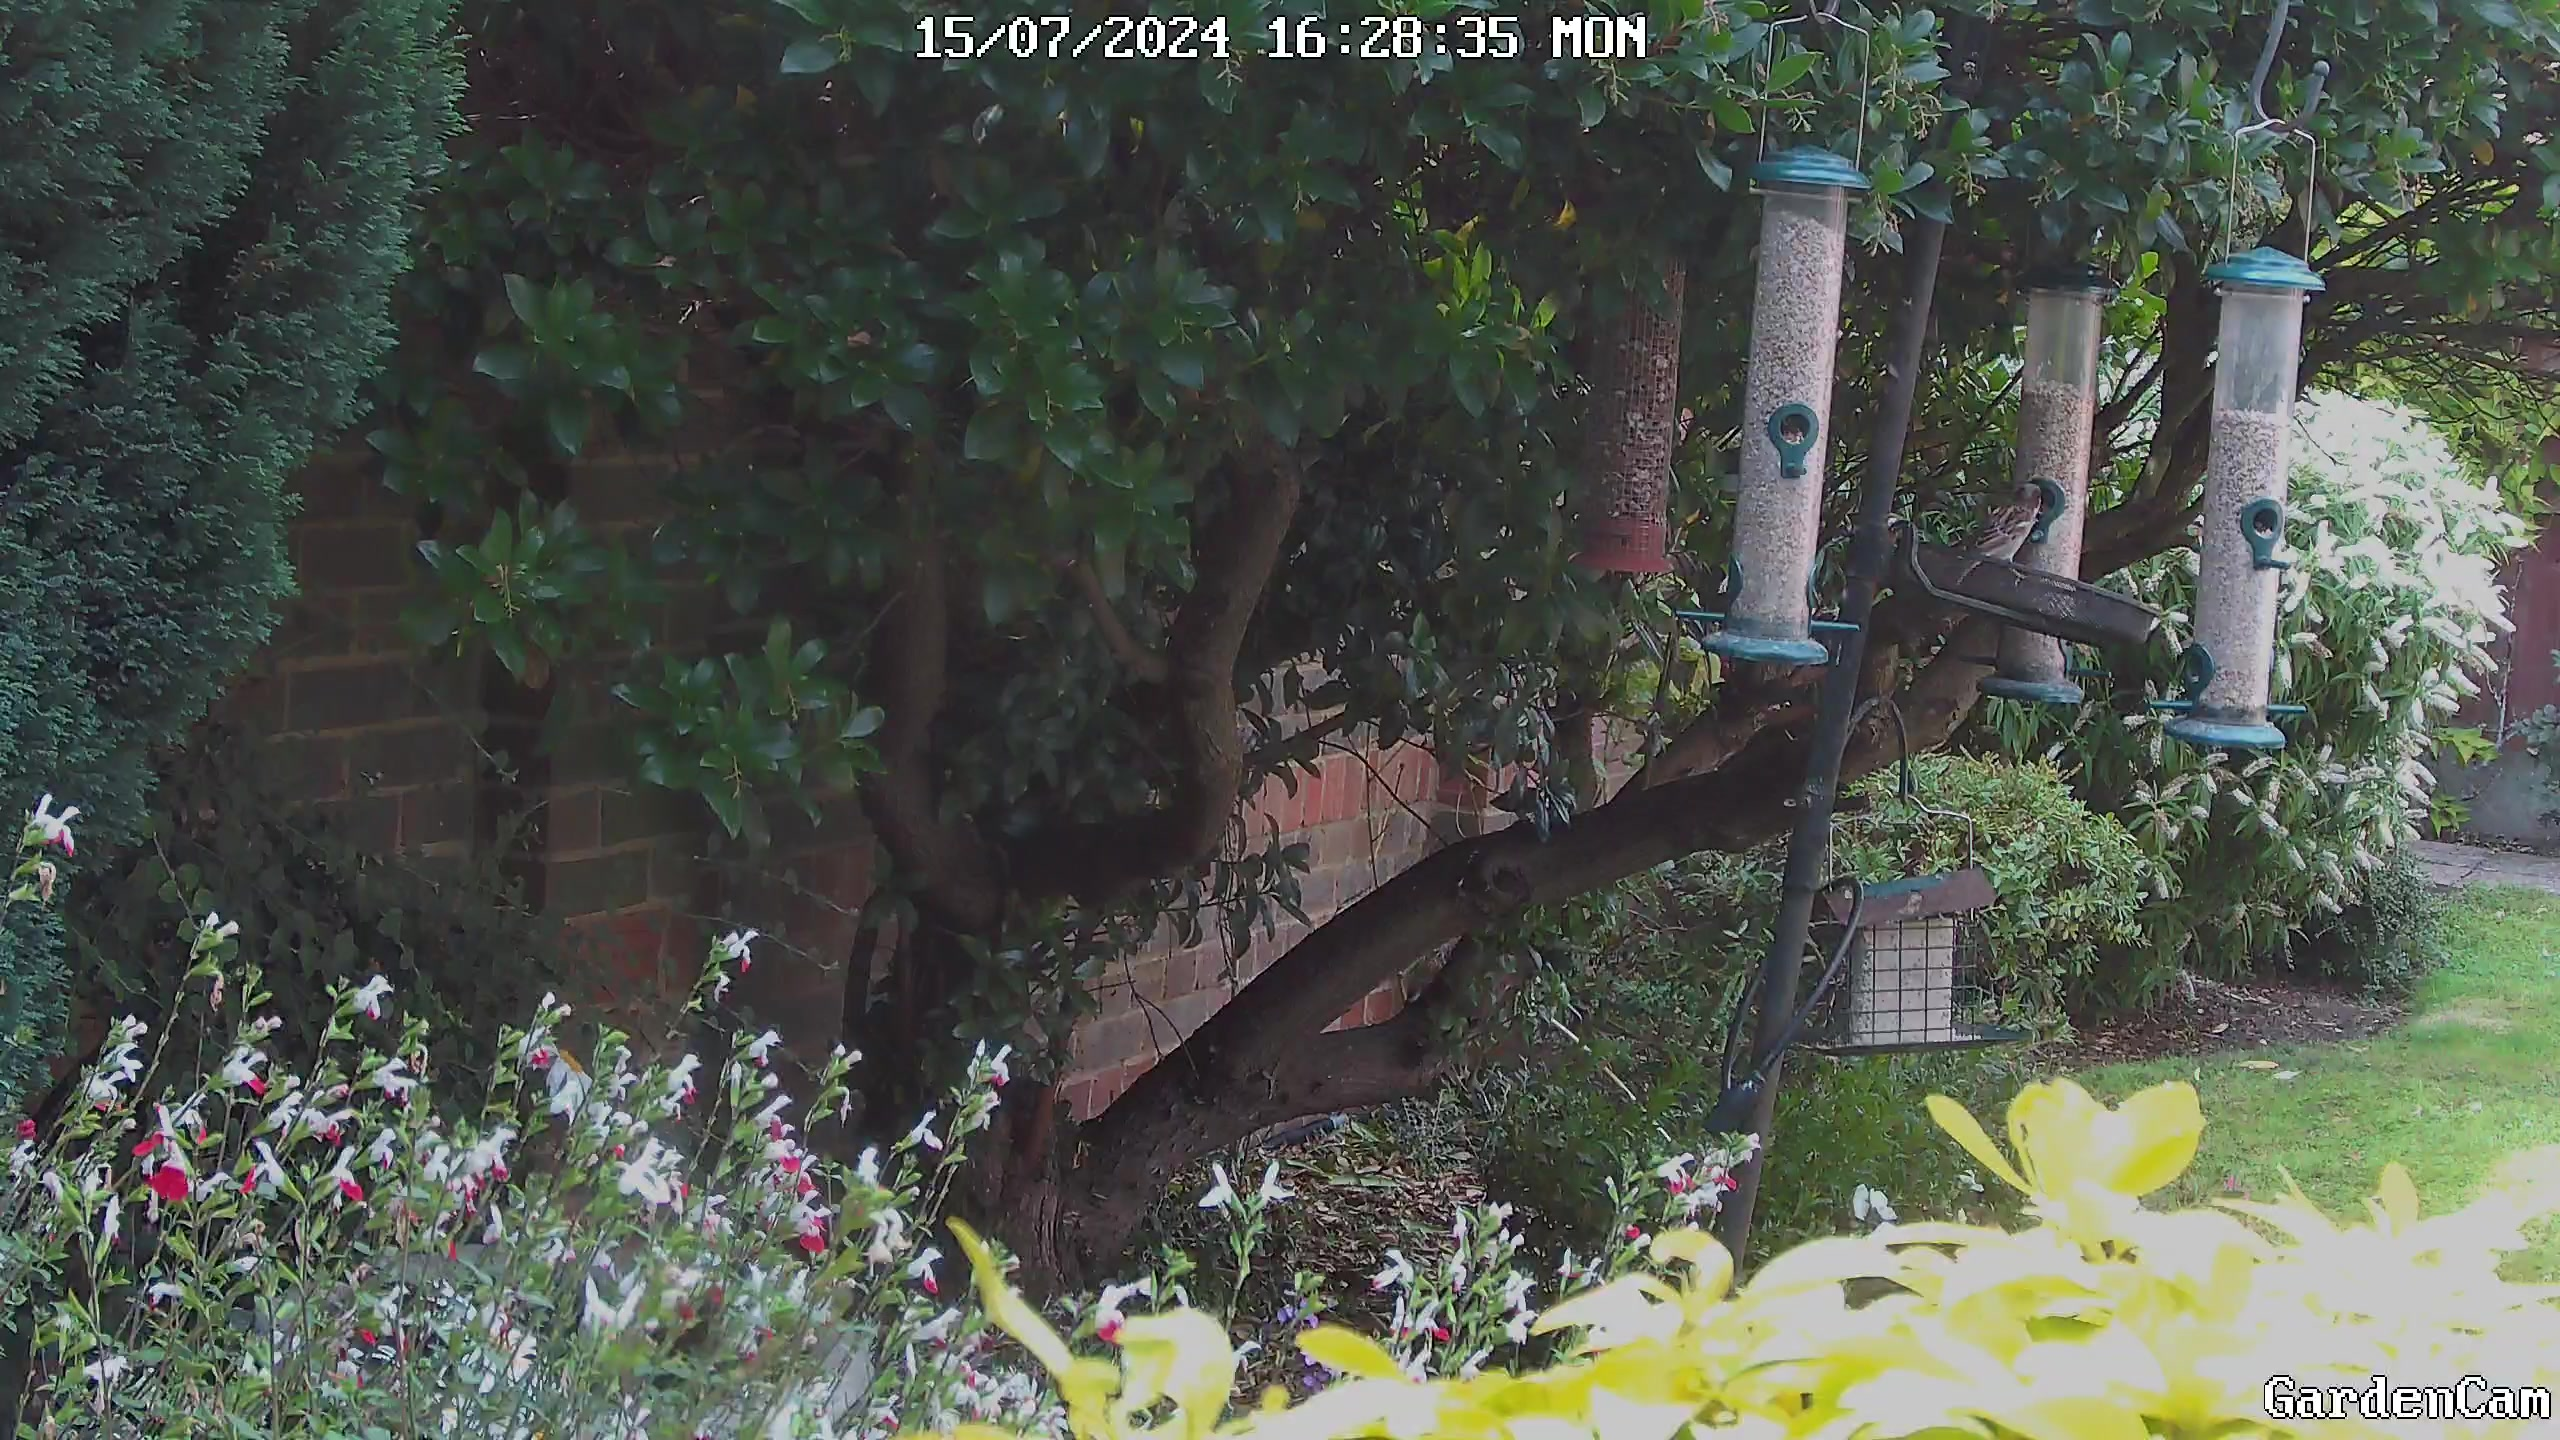House_Sparrow: (1946, 476, 2055, 593)
